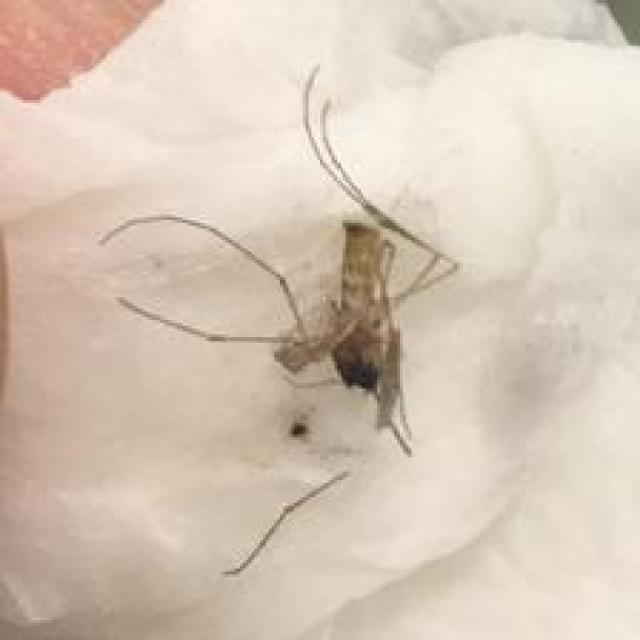Culex: (97, 61, 460, 458)
